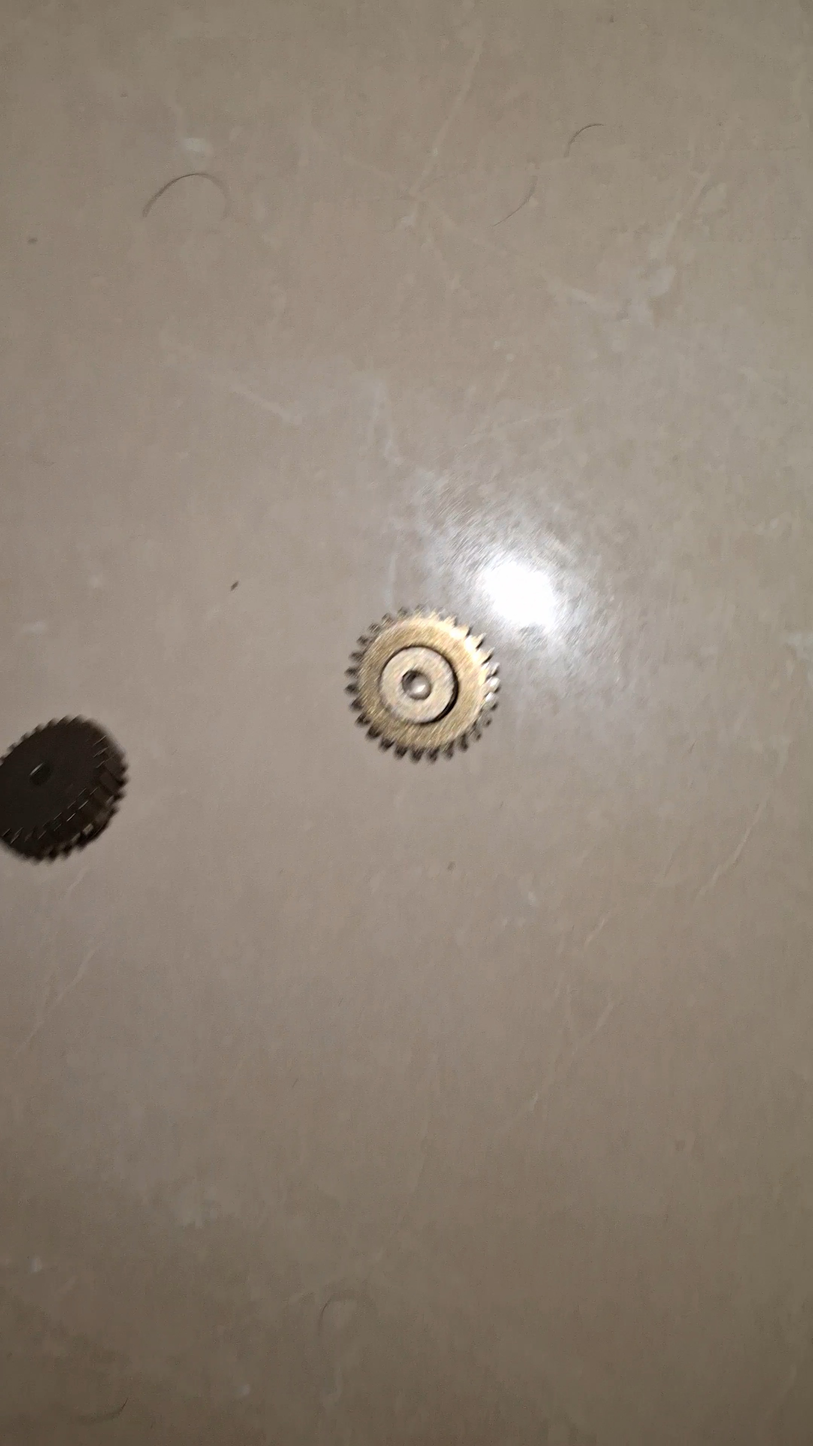spur gear: (347, 611, 498, 759), (0, 718, 126, 860)
